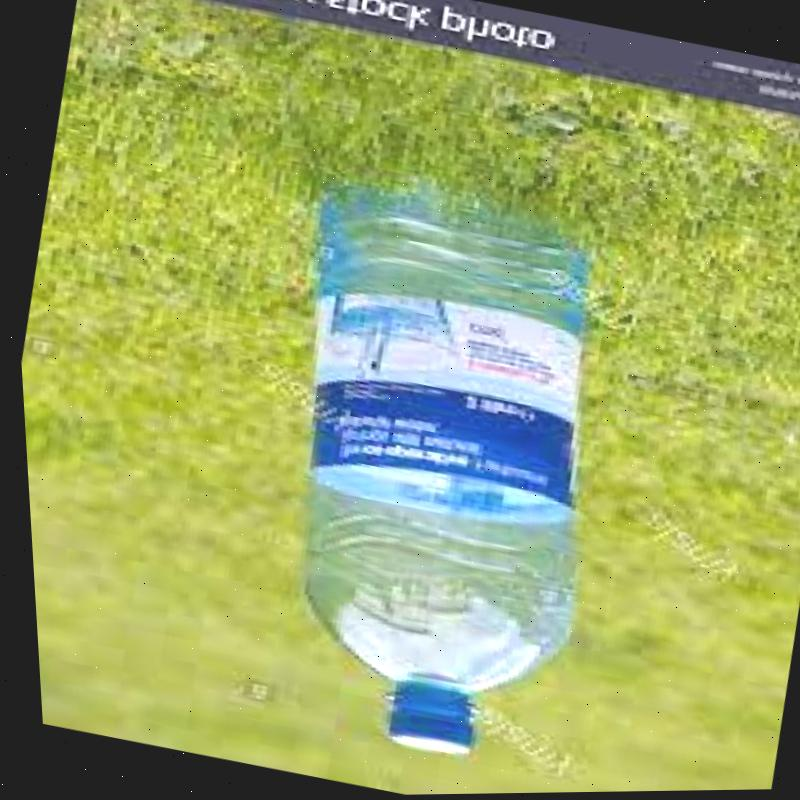botella: (202, 161, 661, 781)
